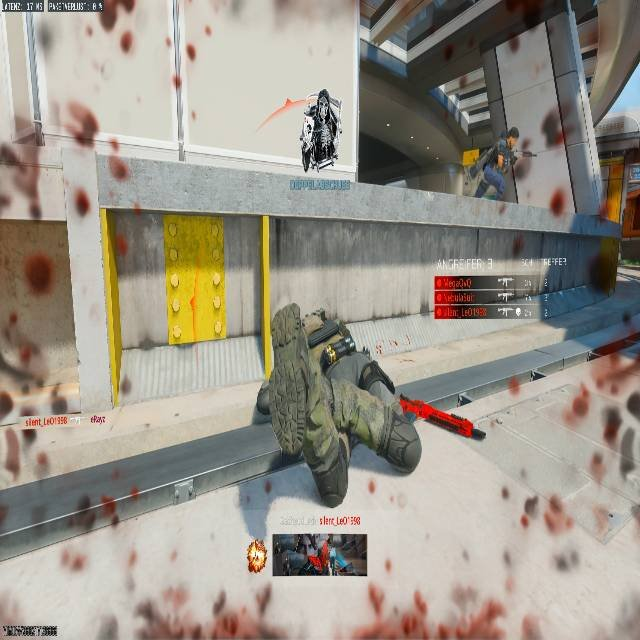head: (57, 98, 100, 149), (506, 126, 520, 142)
player: (257, 302, 423, 511), (473, 126, 522, 201)
